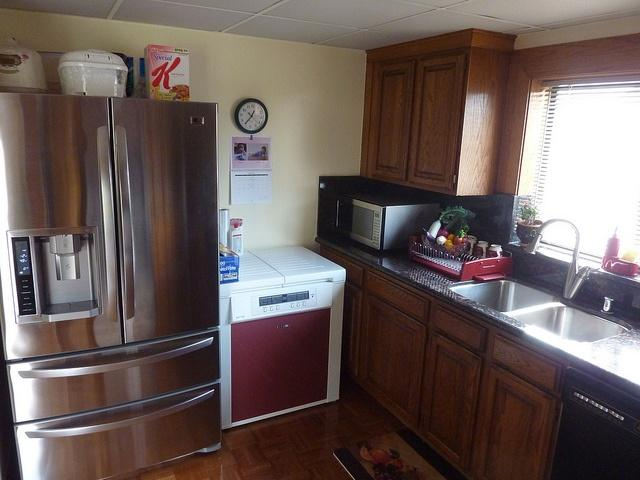Lemari: (365, 43, 473, 195)
